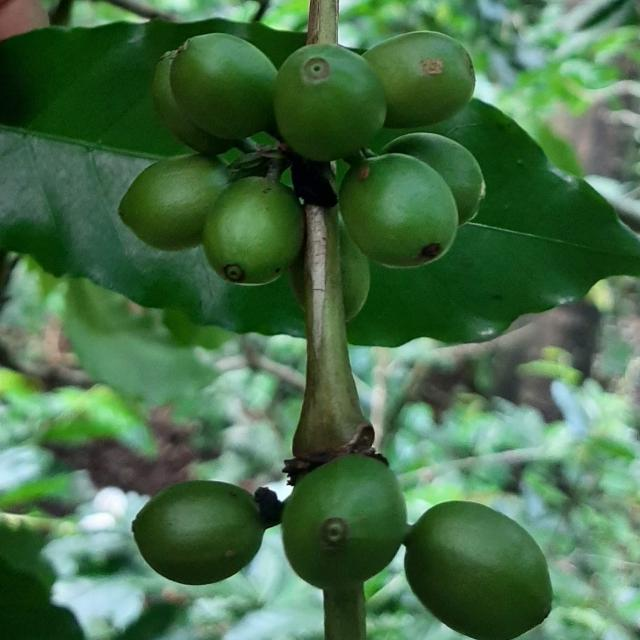green: (405, 502, 554, 640), (282, 455, 407, 590), (132, 482, 265, 586), (339, 153, 459, 268), (274, 44, 387, 161), (170, 32, 277, 139), (170, 32, 277, 139), (202, 176, 304, 285), (363, 30, 476, 127), (118, 153, 228, 251), (383, 132, 486, 225), (340, 224, 371, 321)
